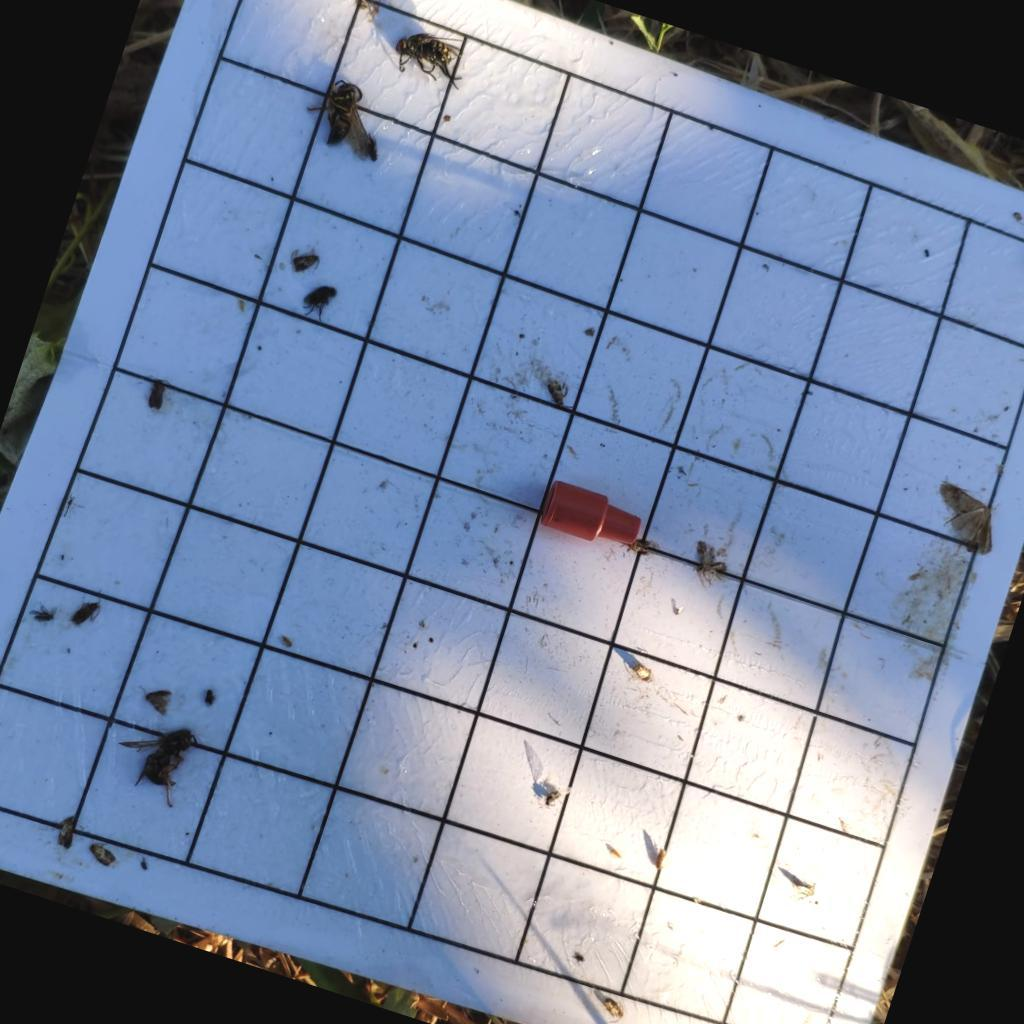grape_moth: (682, 535, 736, 592), (128, 677, 176, 719), (51, 808, 83, 851), (284, 245, 323, 280), (82, 836, 120, 870), (539, 375, 573, 410), (619, 530, 653, 557), (624, 659, 658, 683), (600, 997, 626, 1021)
